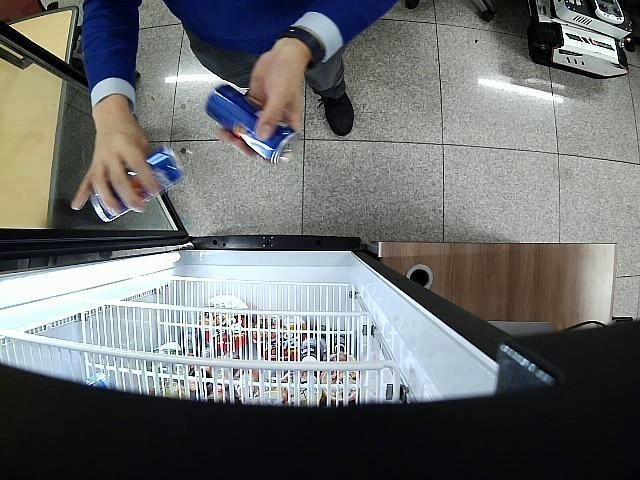16_hot6: (206, 83, 301, 166), (90, 148, 184, 222)
